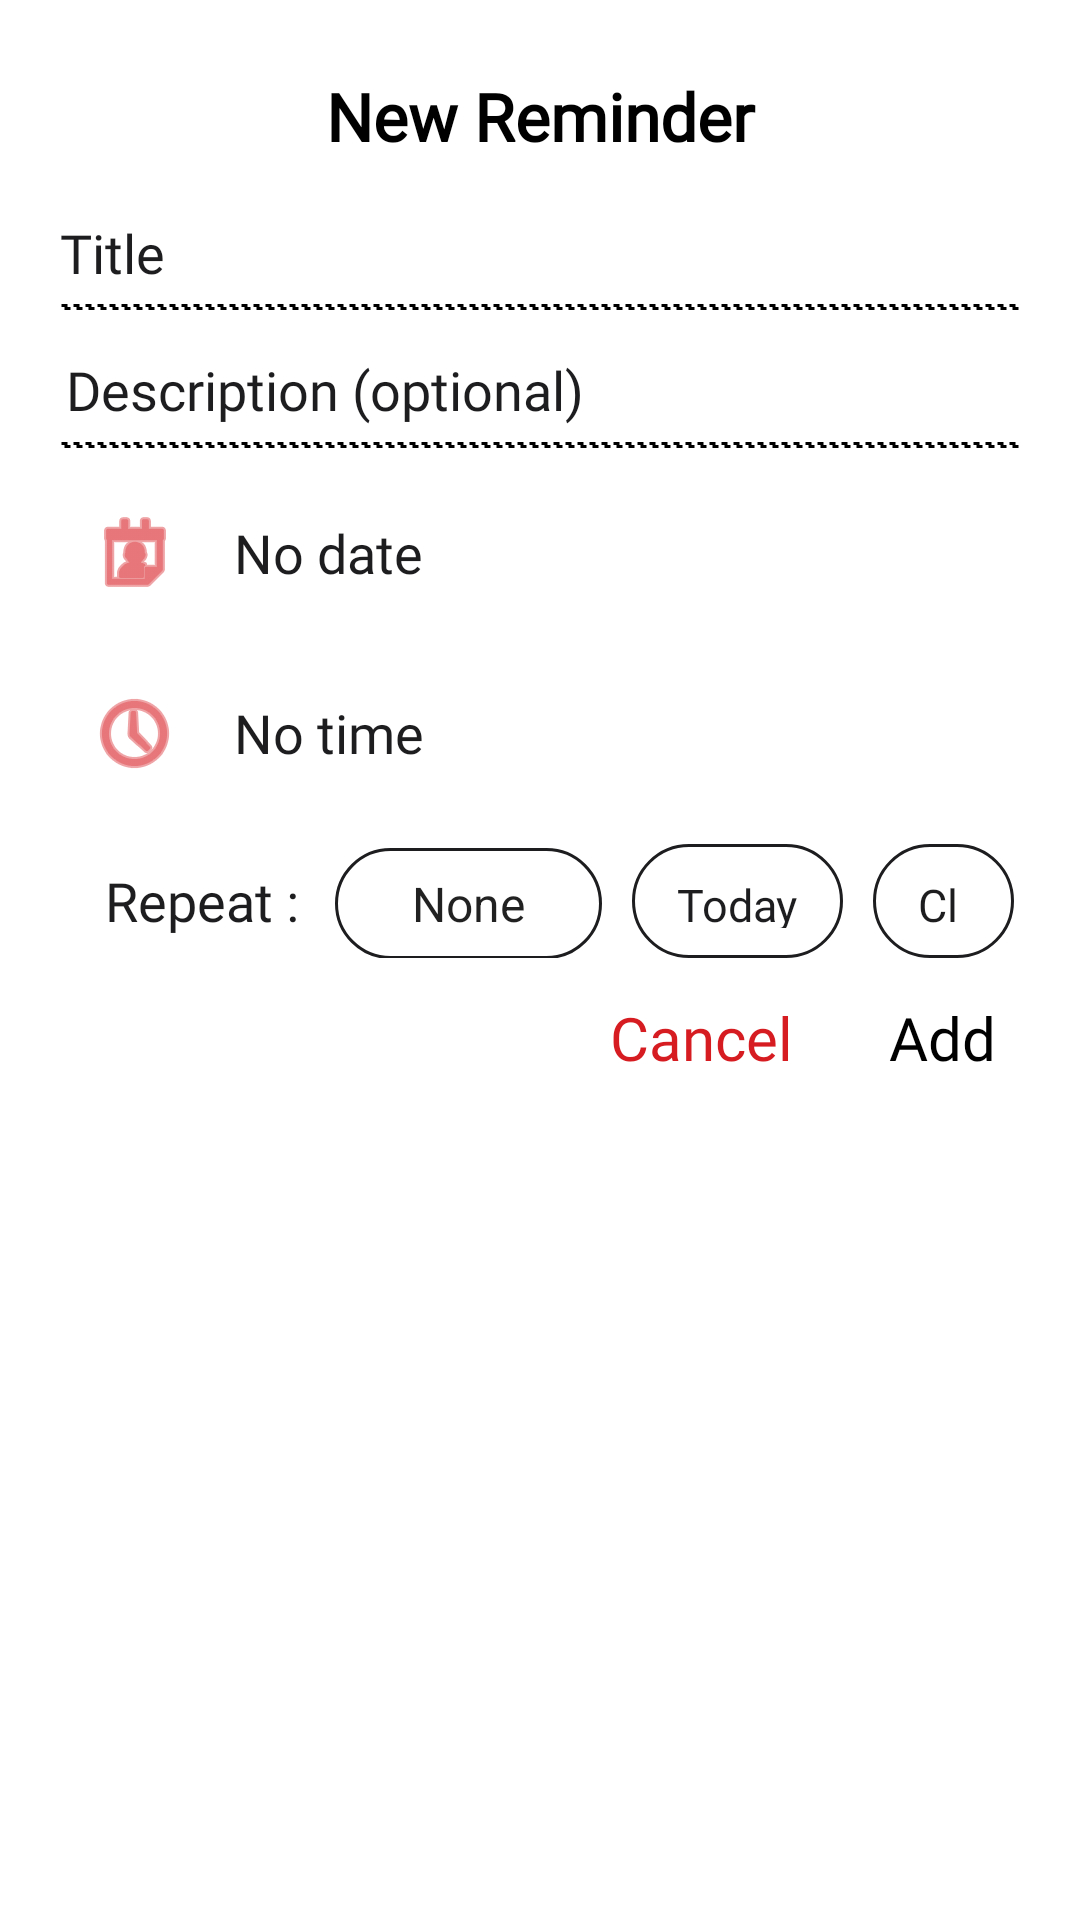

Point at icon controls on the screen. Image size 1080px×1920px, points as (x=x, y=y).
Pick Date: (x=135, y=552)
Pick Time: (x=134, y=733)
